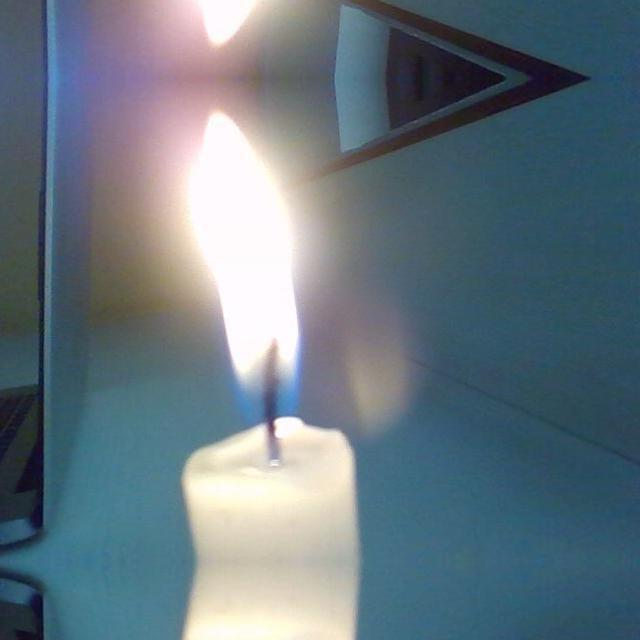smoke: (188, 107, 302, 420)
